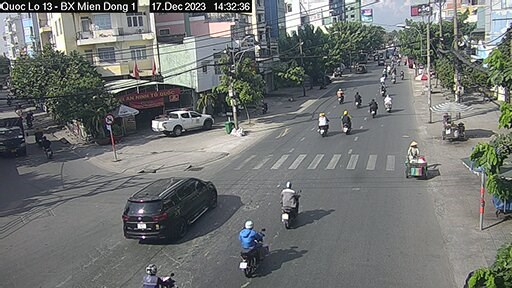car: (123, 175, 218, 241), (152, 109, 216, 138)
motorbike: (234, 222, 264, 276), (275, 182, 300, 232), (335, 112, 355, 140), (315, 105, 330, 140), (334, 84, 345, 108)
